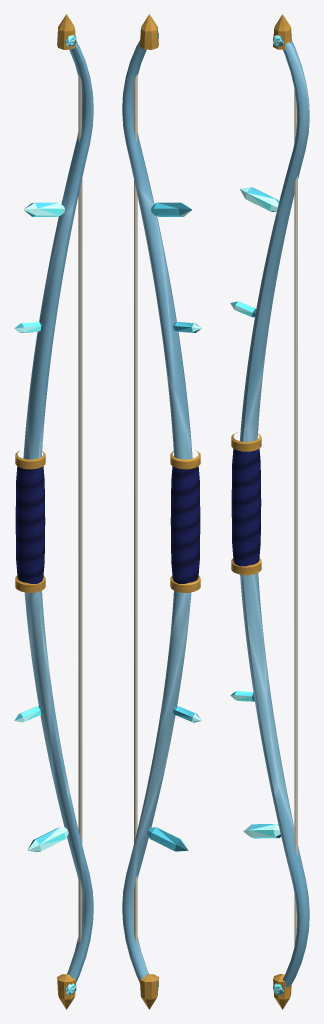
Rendered from GlacierBow.glb.
3 views of the same model, side by side, from view 1: azimuth 30°, elevation 25°; view 2: azimuth 150°, elevation 25°; view 3: azimuth 330°, elevation 25° (orthographic).
Parts seen in each view (by area): view 1: GlacierBow; view 2: GlacierBow; view 3: GlacierBow.
Part boxes in pixels (left/top/right/bottom): GlacierBow: left=14, top=14, right=93, bottom=1009; GlacierBow: left=122, top=14, right=201, bottom=1009; GlacierBow: left=230, top=14, right=309, bottom=1009.
Bounding box in the file's own units: 0.4085 × 5 × 0.1536.
Materials: 1 (1 with a texture image).
